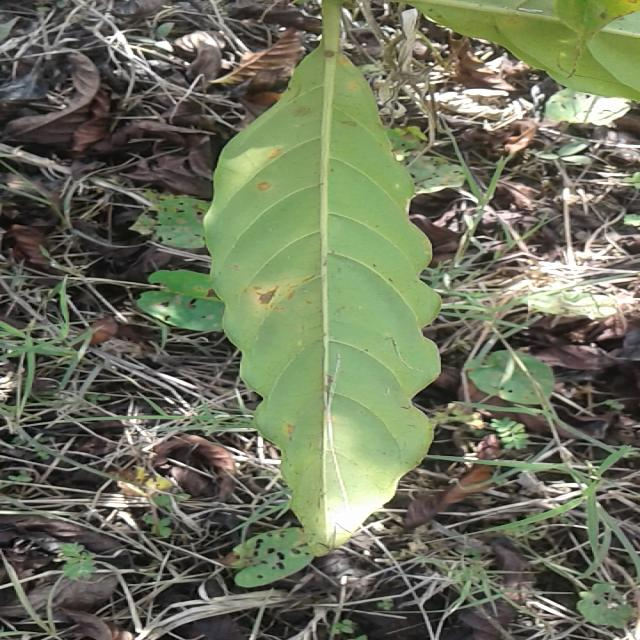Enfermedad-Roya: (200, 53, 442, 560)
